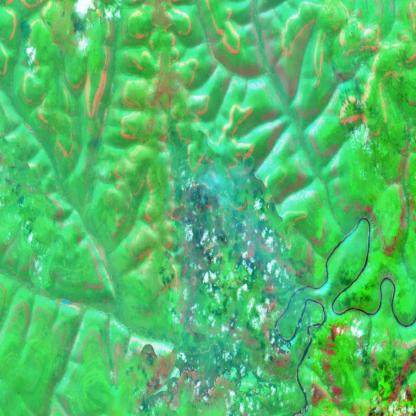fire: (166, 178, 244, 272)
